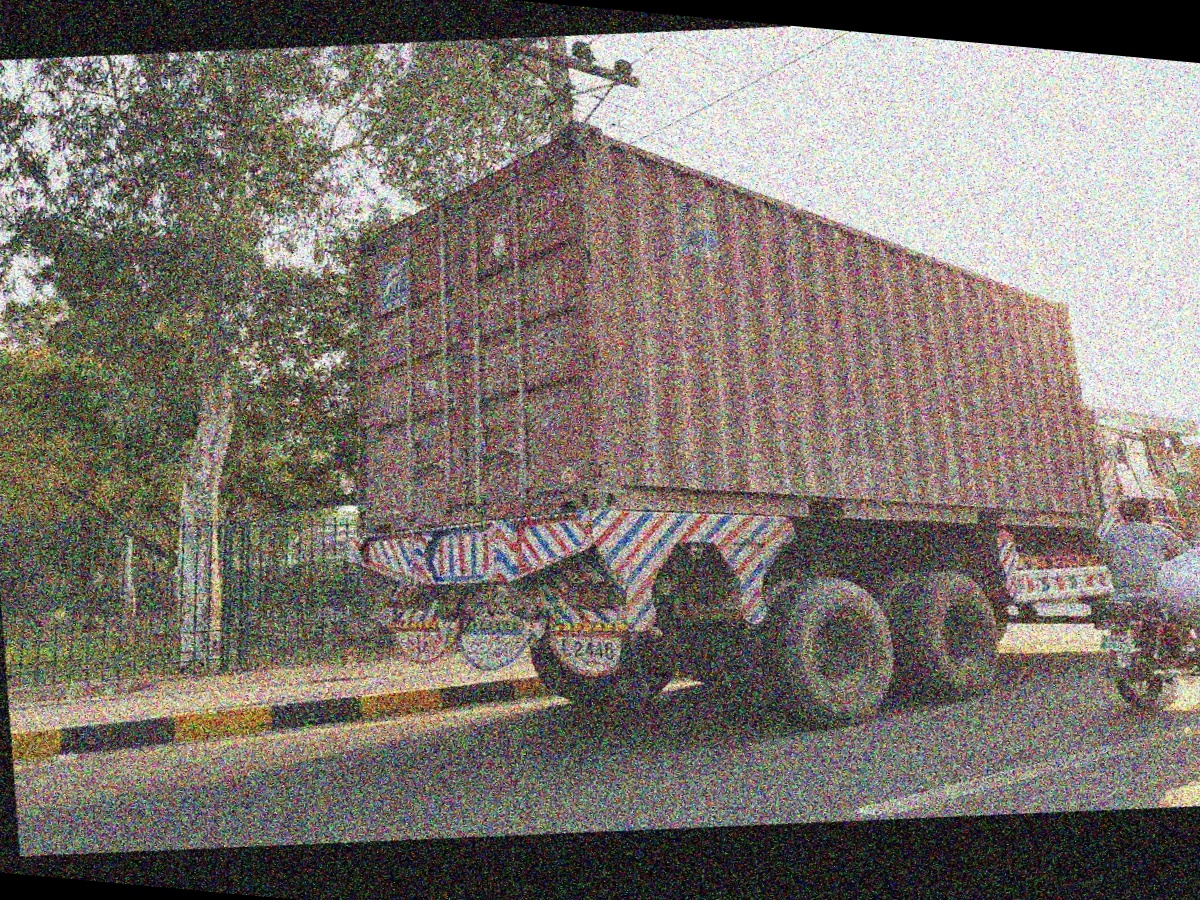truck: (267, 20, 1200, 817)
